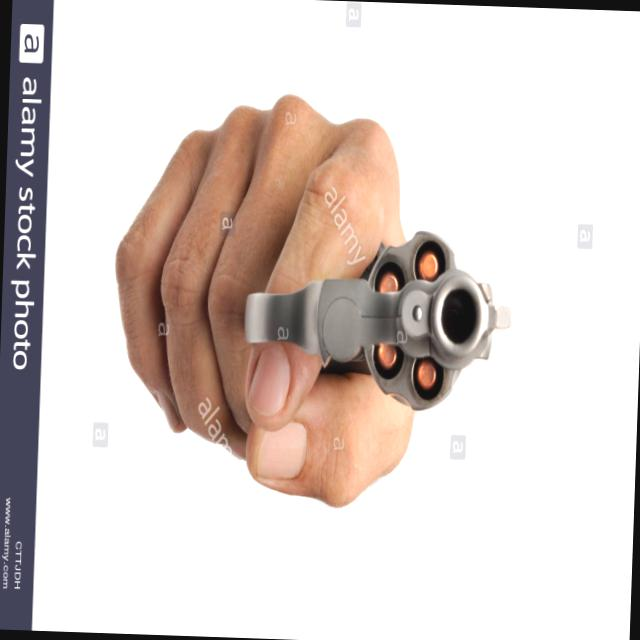handgun: (221, 208, 522, 416)
